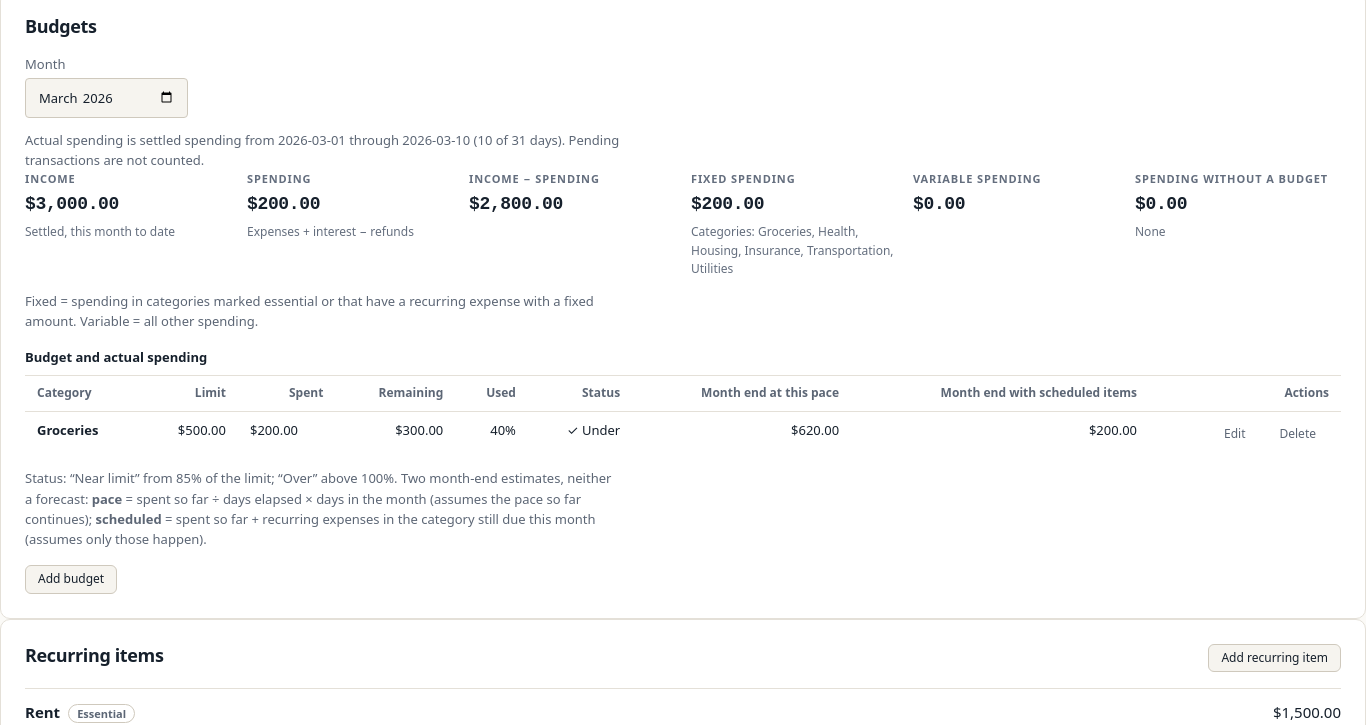
Test: BudgetsView › has no detectable accessibility violations, including with forms open
Step 1. Click the button "Add budget" → (71, 579), box [25, 565, 117, 594]
(page scrolled)
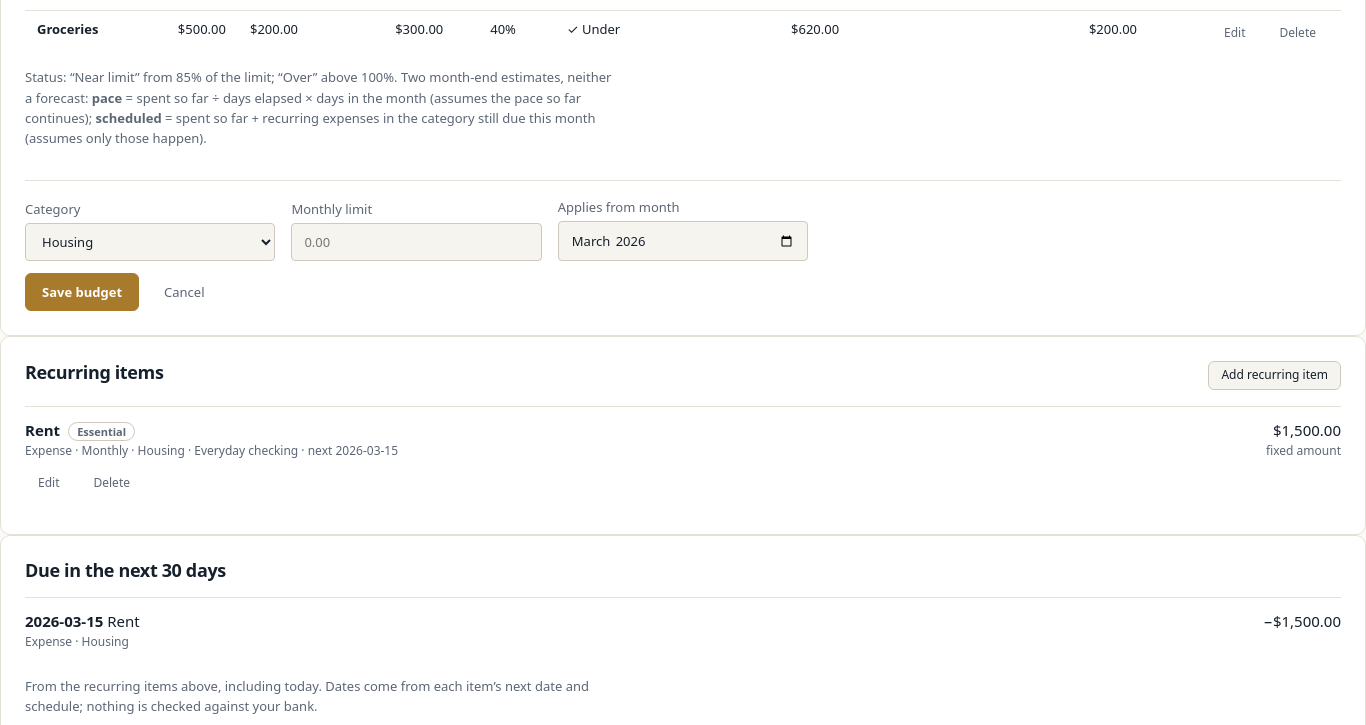
Step 2. Click the button "Add recurring item" → (1275, 376), box [1208, 362, 1341, 390]
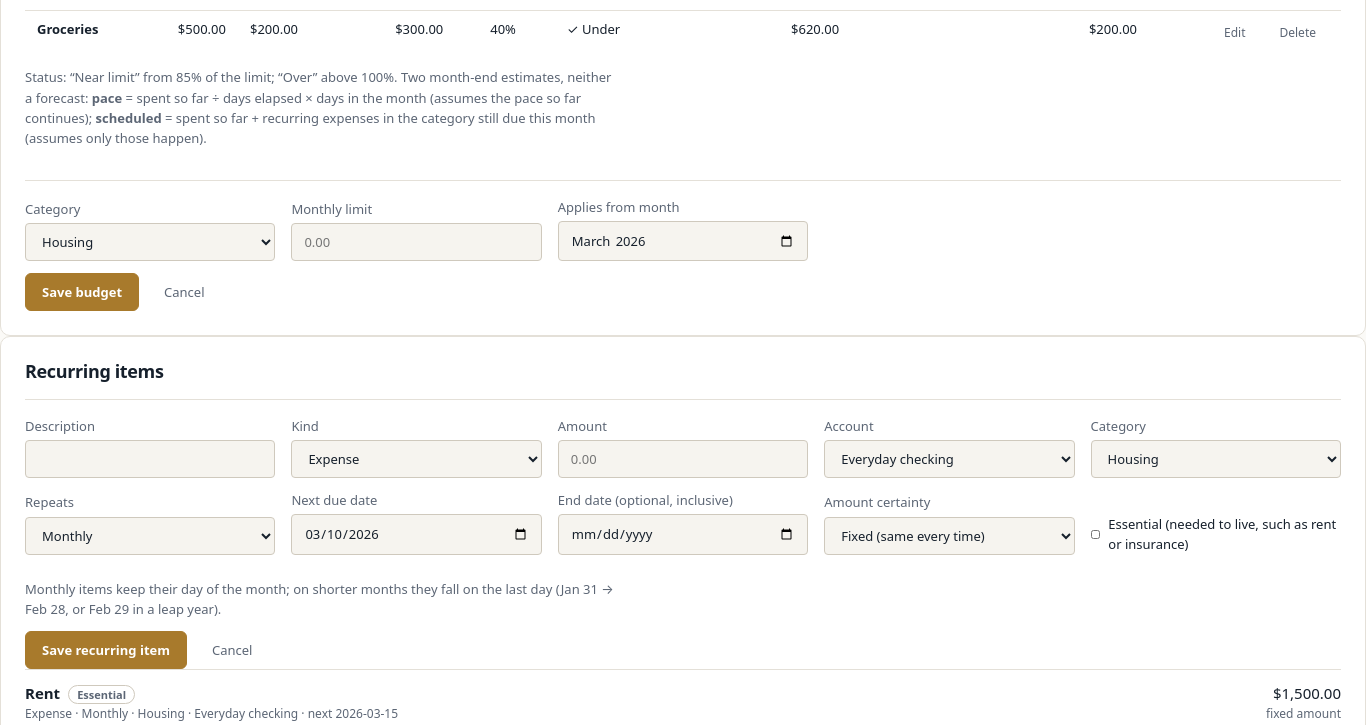
Step 3. Select "Transfer between your accounts" in the dropdown labelled "Kind" → (417, 459), box [291, 440, 542, 478]
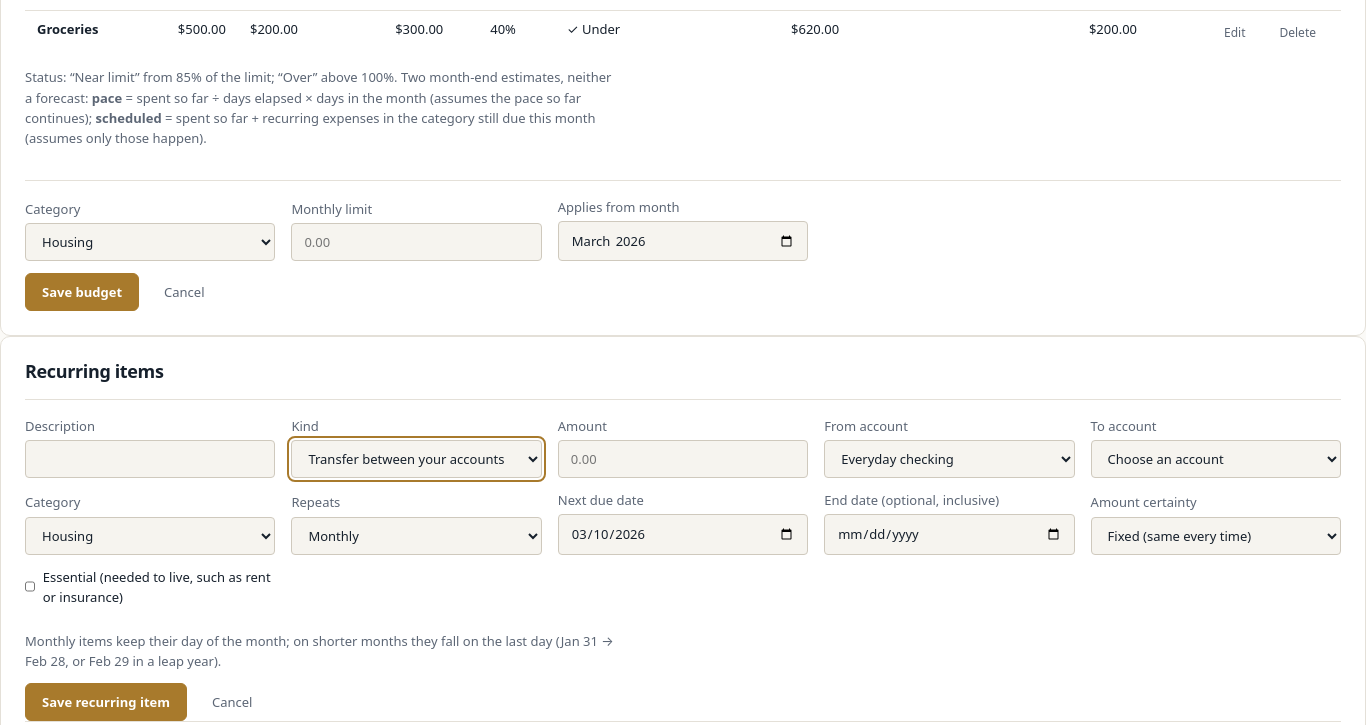
Now the dropdown labelled "To account" is shown, box [1091, 440, 1341, 478]
